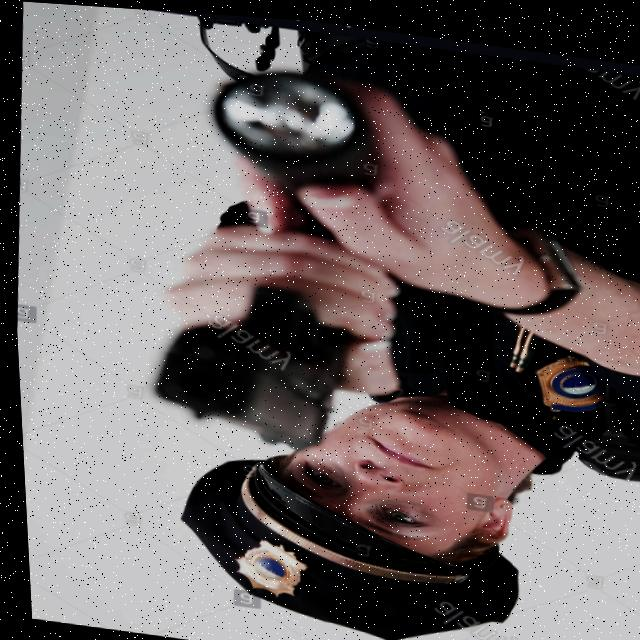pistol: (136, 263, 359, 454)
